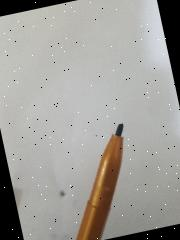plastic: (50, 122, 145, 240)
